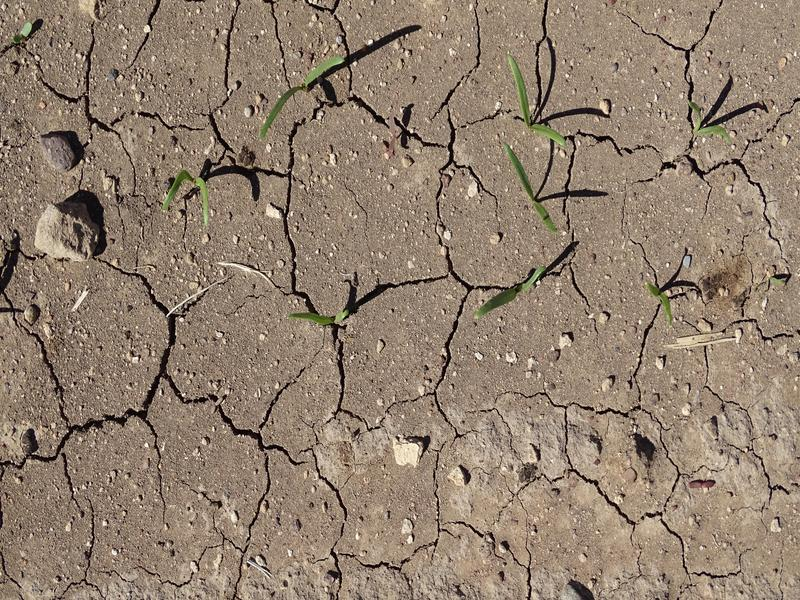Espinaca: (255, 53, 342, 137), (505, 54, 582, 145), (500, 144, 561, 231), (469, 264, 549, 322), (154, 165, 223, 227), (684, 99, 734, 146), (636, 278, 683, 327), (295, 305, 350, 332)
